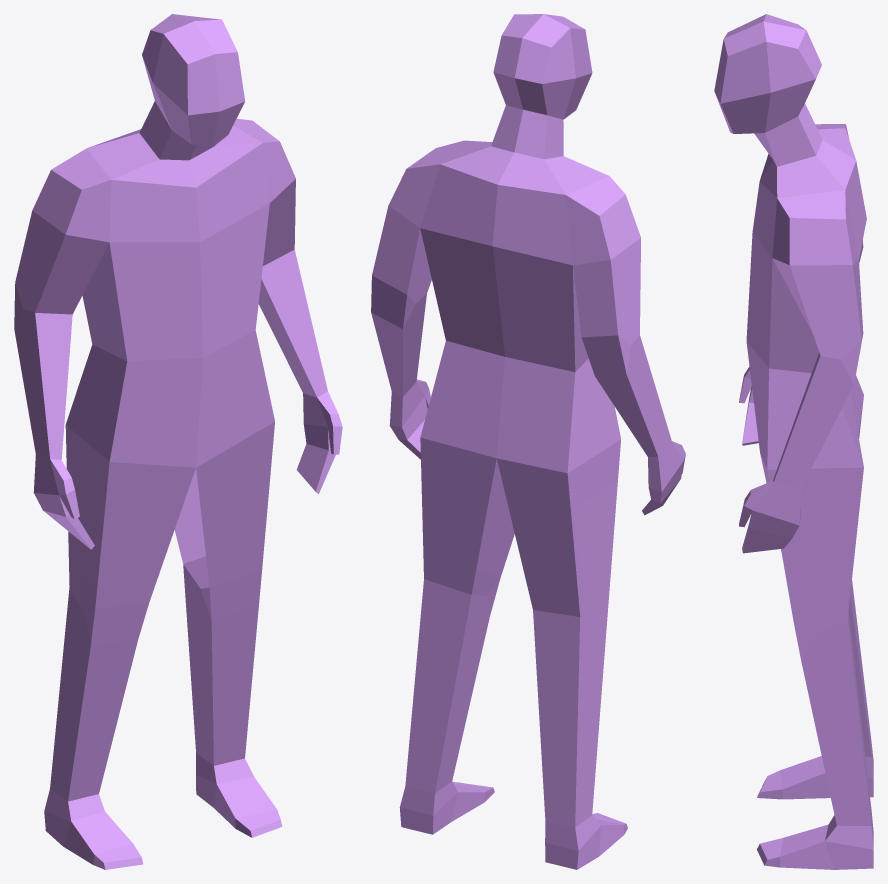
The model's file is GGJ2025_Humano_Violeta.fbx.
3 renders of one model, left to right at view 1: azimuth 30°, elevation 25°; view 2: azimuth 150°, elevation 25°; view 3: azimuth 270°, elevation 25°, orthographic. The views are drawn at different scales.
Parts seen in each view (by area): view 1: Human.001; view 2: Human.001; view 3: Human.001.
Boxes of the visible parts, x1=… form: Human.001: x1=14, y1=14, x2=342, y2=869; Human.001: x1=371, y1=14, x2=685, y2=869; Human.001: x1=714, y1=14, x2=873, y2=869.
Size of the model in its own units: 101 by 282 by 50.76.
